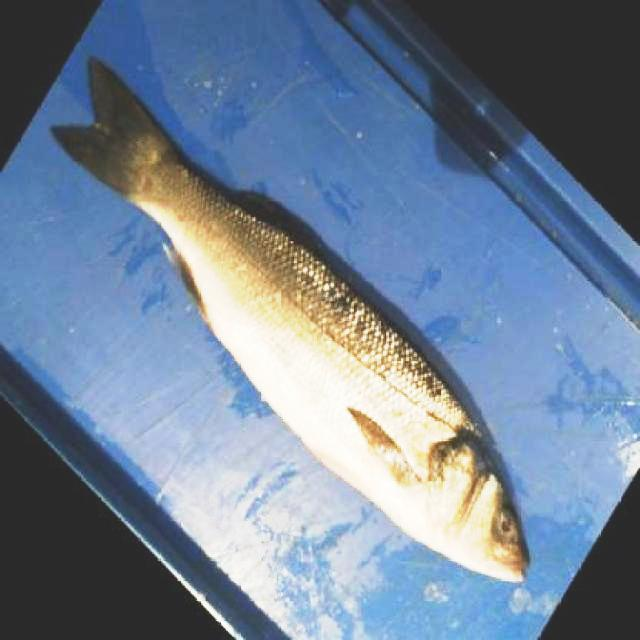Healthy Fish: (55, 60, 526, 580)
